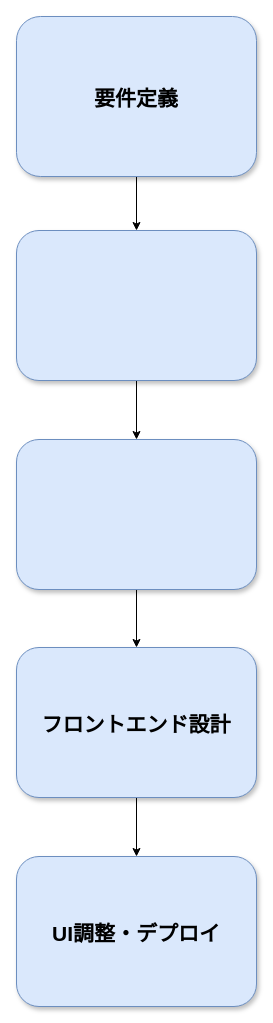
This 273x1023 diagram has some shape labels left out. The shapes that lost their labels are listed below. From the top down, each one's centre as x and y in pixels, then its label:
point 137,307: 画面・機能設計
point 137,515: バックエンド実装
